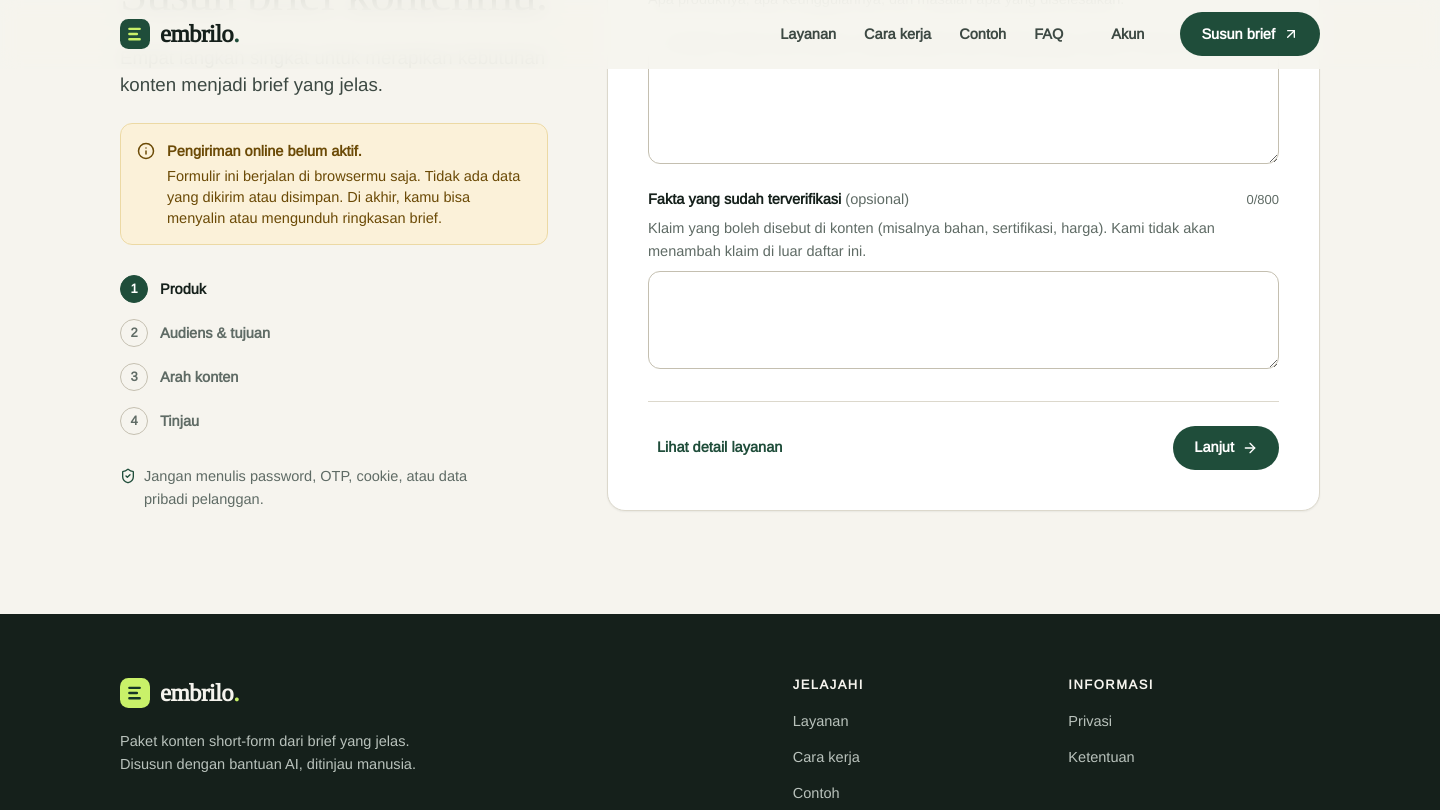
Test: brief builder › blocks progress and lists errors when required fields are empty
(page scrolled)
Click the button "Lanjut": (1226, 448) [1173,426,1279,470]
(page scrolled)
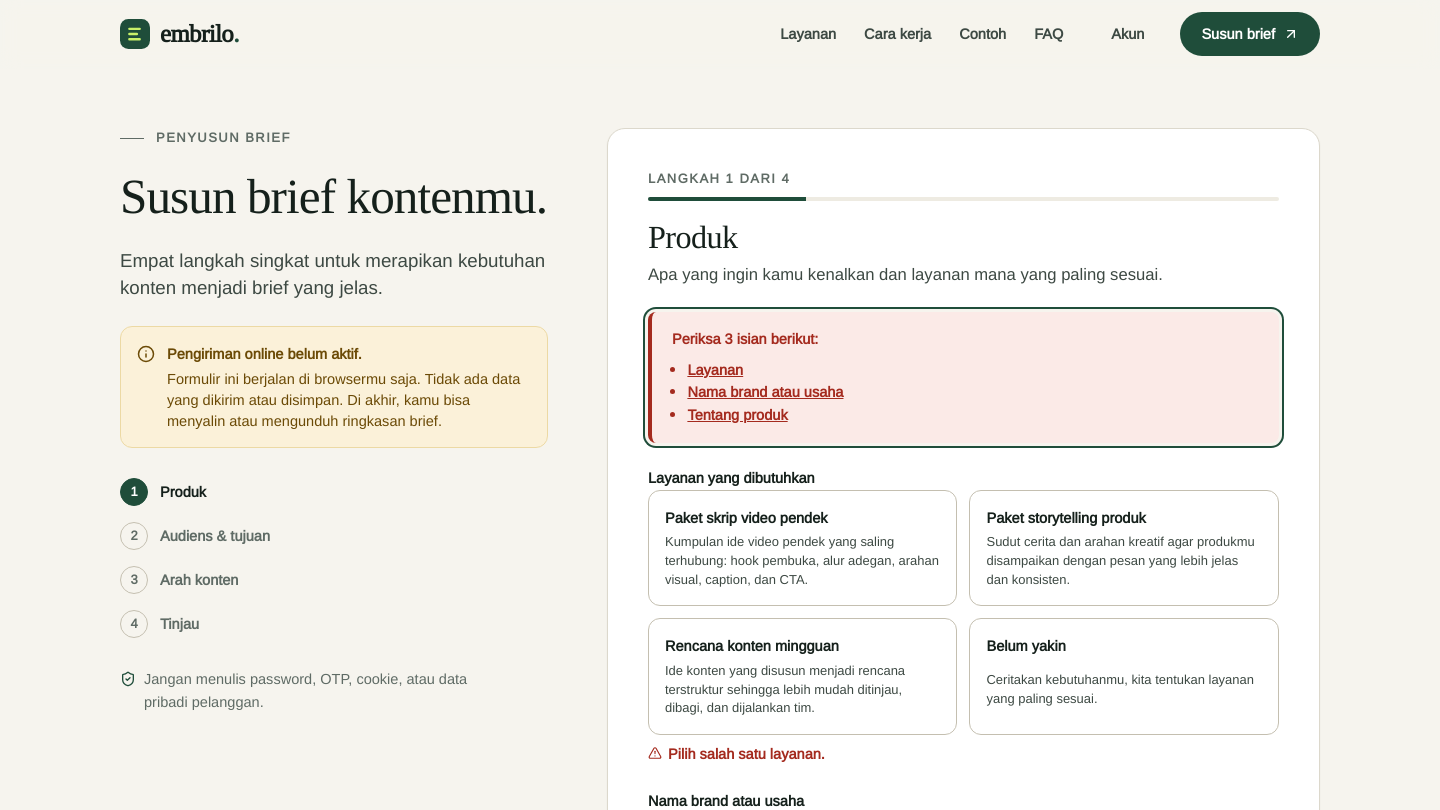
Expected: the text "Langkah 1 dari 4" is shown, [648,170,790,187]
Expected: the message shows "Periksa 3 isian", [648,312,1279,443]
